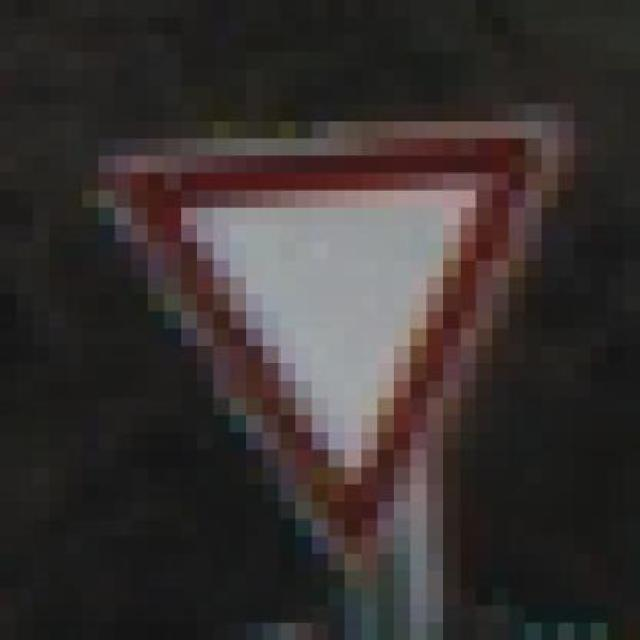Give Way: (41, 113, 599, 564)
